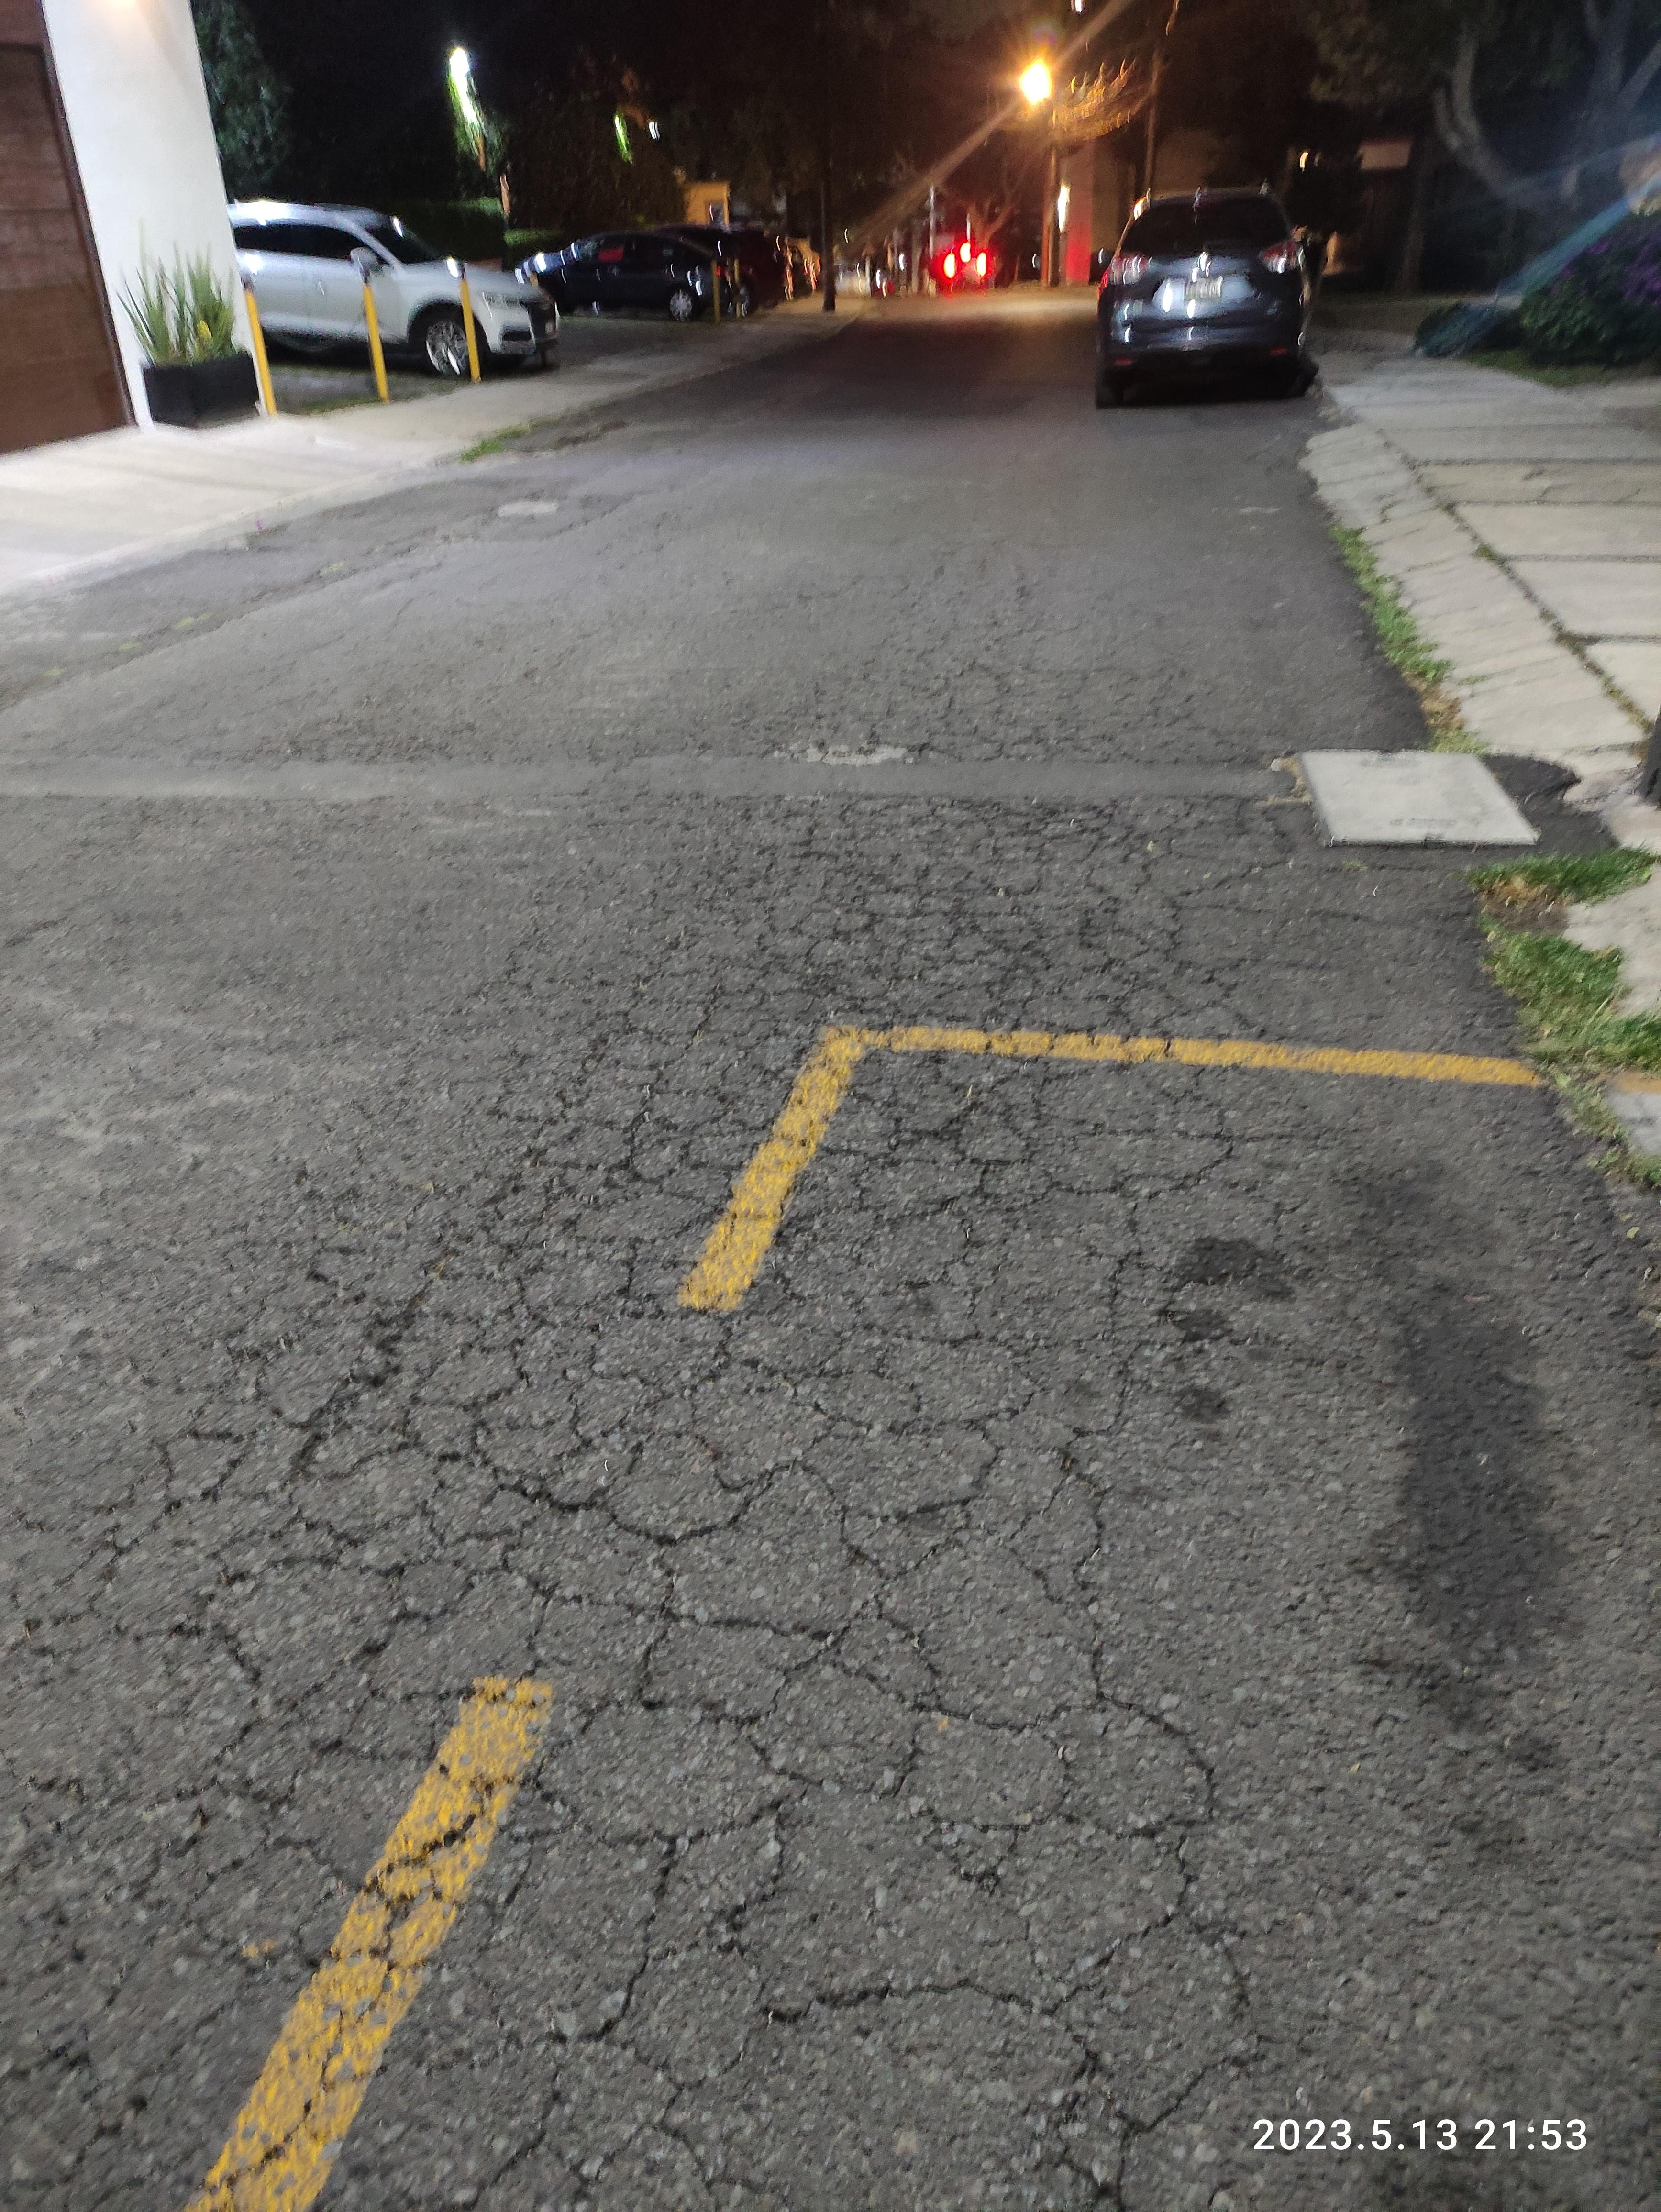alligator-crack: (78, 1393, 1233, 2212), (747, 824, 1229, 1598), (403, 893, 739, 1606), (1, 1560, 299, 2212)
